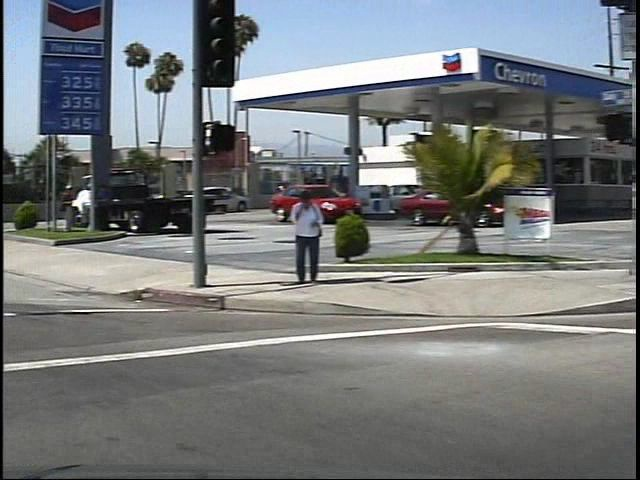person: (278, 187, 316, 287), (51, 181, 71, 236)
